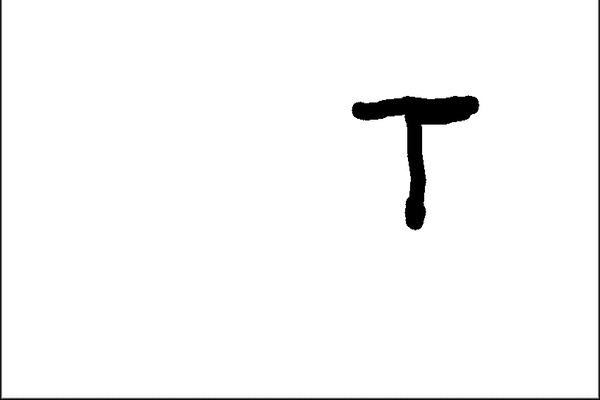T: (344, 87, 476, 231)
